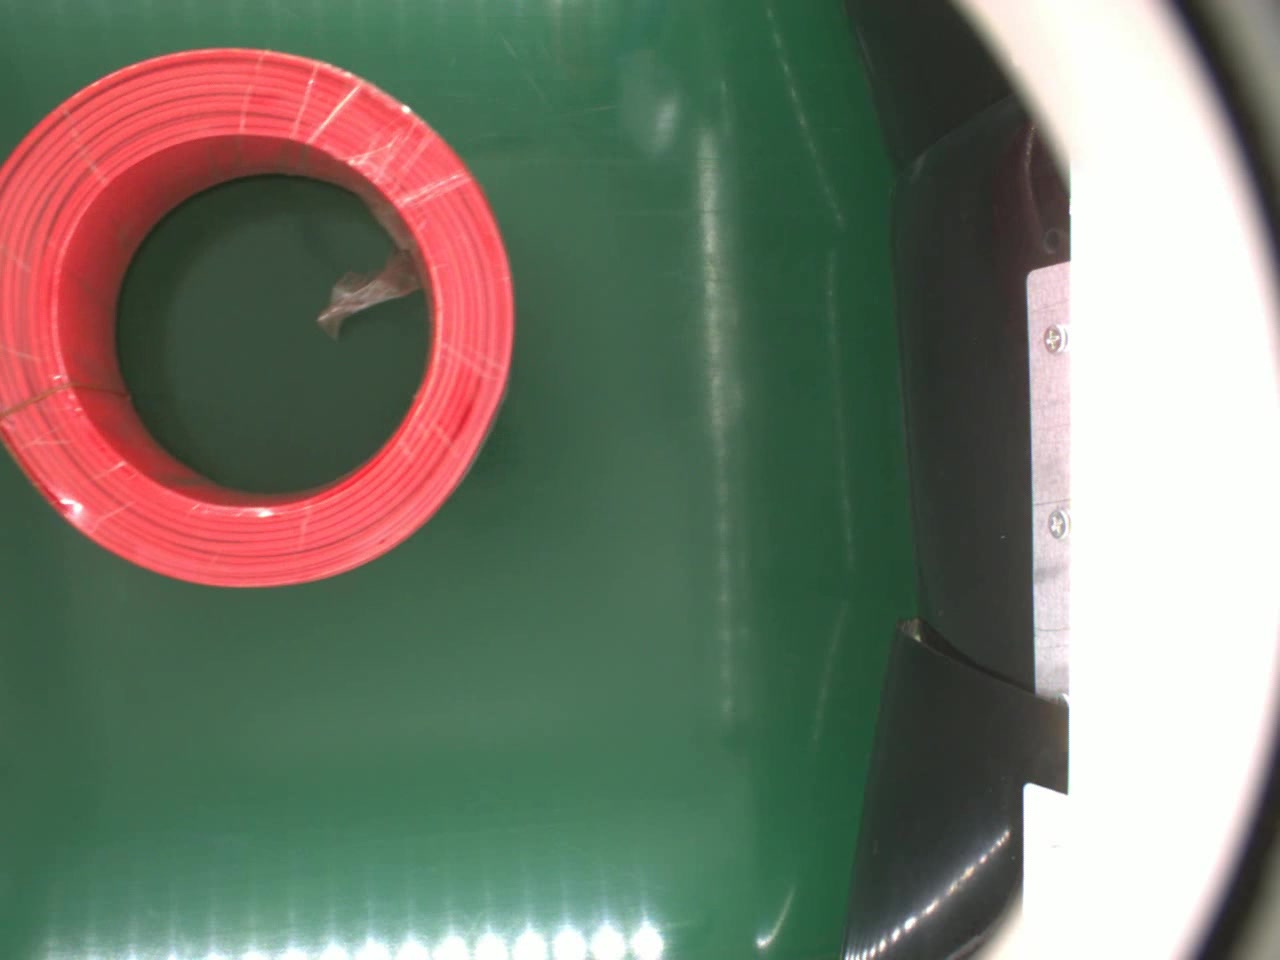red: (0, 43, 520, 592)
